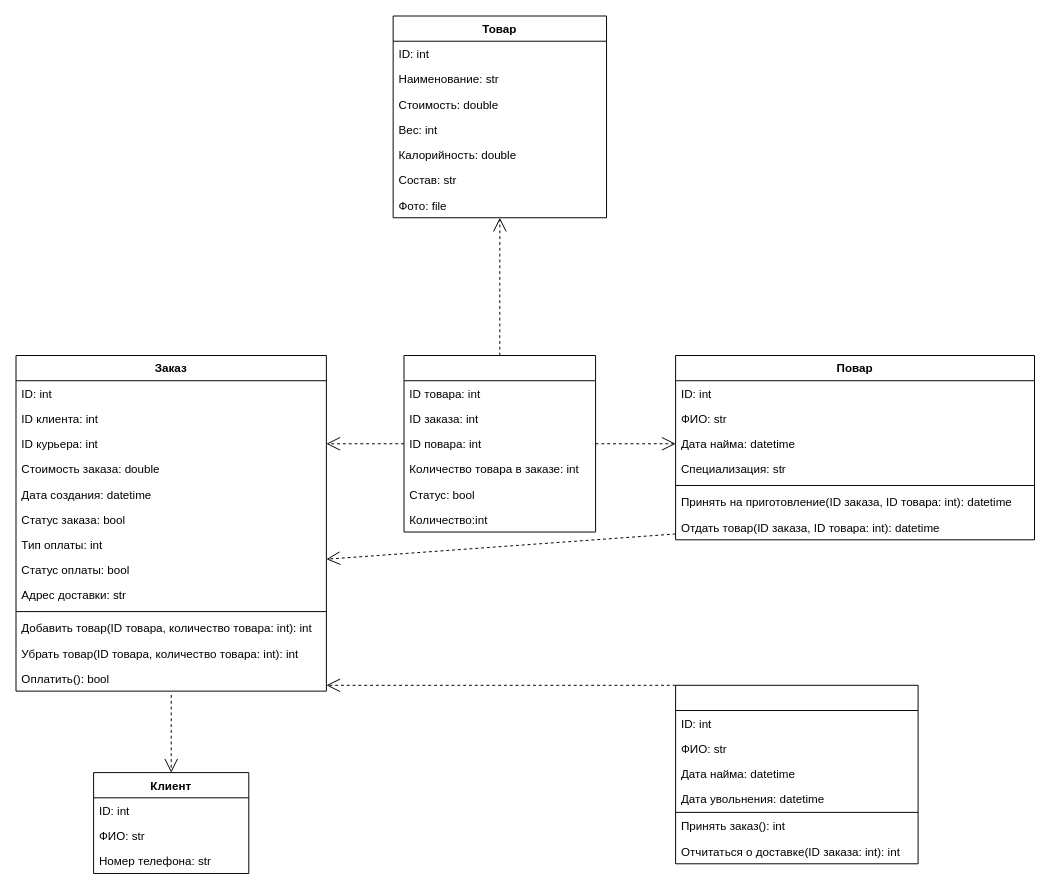
Image size: 1051x889. Some labels were removed from this diagram. The box of each missing label's shape, as (x1, y1, x2, y2) in pixels:
Курьер: (675, 684, 918, 864)
Товар в заказе: (403, 355, 596, 532)
